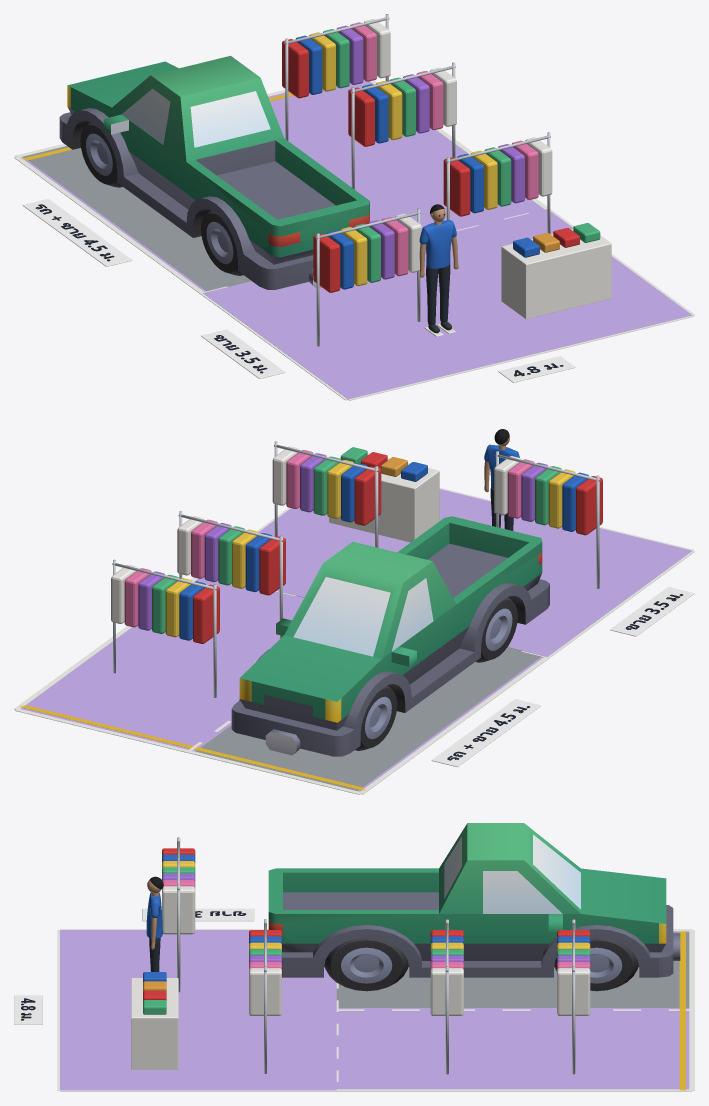
Rendered from lot-boot-2.glb.
3 renders of one model, top to bottom at view 1: azimuth 30°, elevation 25°; view 2: azimuth 150°, elevation 25°; view 3: azimuth 270°, elevation 25°, orthographic. The views are drawn at different scales.
Parts seen in each view (by area): view 1: body, Cube, Cube.025, Cube.026, Cube.048, Cube.064, Cube.002, wheel-front-left, wheel-back-left, Cube.063, Cube.041, sk.002 (+31 smaller); view 2: body, Cube.025, Cube, Cube.026, Cube.048, Cube.064, Cube.002, wheel-front-left, wheel-back-left, Cube.063, Cube.024, Cube.004 (+29 smaller); view 3: body, Cube, Cube.025, Cube.026, Cube.048, wheel-back-right, wheel-front-right, Cube.003, Cube.047, Cube.033, Cube.040, Cube.059 (+8 smaller).
Part boxes in pixels (x1,y1,x2,y2): body: (59,55,369,289); Cube: (203,209,691,399); Cube.025: (21,80,544,291); Cube.026: (23,146,251,290); Cube.048: (501,229,611,319); Cube.064: (22,198,132,266); Cube.002: (14,156,347,400); wheel-front-left: (80,122,122,187); wheel-back-left: (201,210,243,275); Cube.063: (201,329,285,378); Cube.041: (313,233,340,292); sk.002: (419,220,456,268); body: (231,516,549,756); Cube.025: (21,577,543,791); Cube: (258,489,691,656); Cube.026: (195,647,540,790); Cube.048: (329,453,439,542); Cube.064: (431,699,541,767); Cube.002: (359,551,694,794); wheel-front-left: (355,685,397,750); wheel-back-left: (475,597,517,662); Cube.063: (610,587,694,636); Cube.024: (20,705,365,790); Cube.004: (15,709,360,794); body: (268,823,680,977); Cube: (60,930,336,1090); Cube.025: (336,931,689,1089); Cube.026: (336,932,689,1007); Cube.048: (131,978,178,1069); wheel-back-right: (324,938,408,991); wheel-front-right: (554,938,638,991); Cube.003: (60,1089,692,1091); Cube.047: (162,886,195,934); Cube.033: (430,968,463,1015); Cube.040: (557,968,590,1015); Cube.059: (249,968,281,1015).
Bounding box in the file's own units: 5.47 × 1.8 × 8.62.
Materials: 25 (1 with a texture image).
